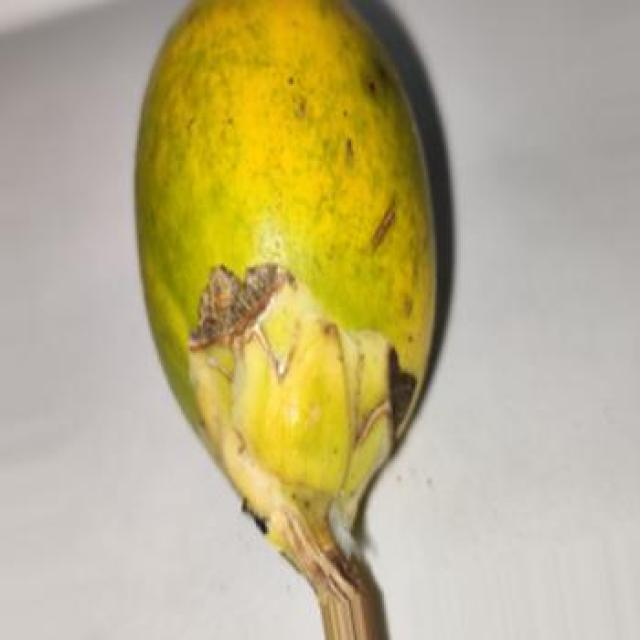good: (137, 0, 450, 638)
